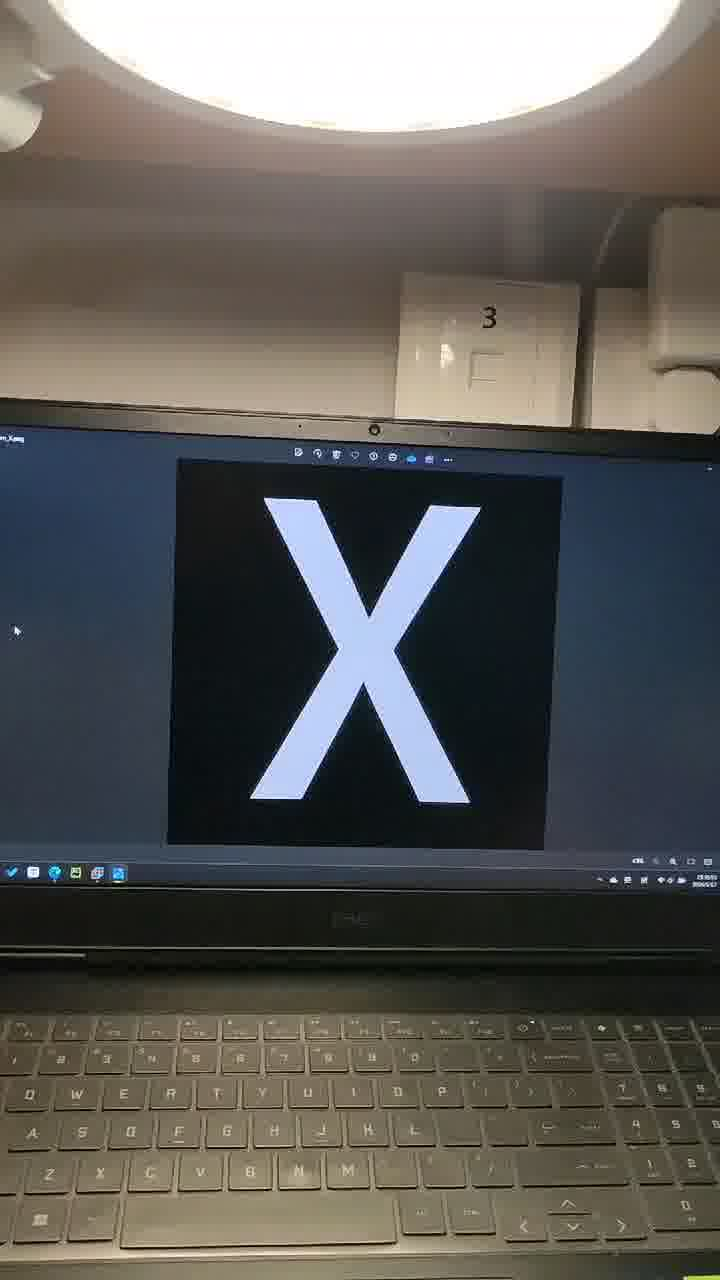X: (228, 431, 560, 841)
